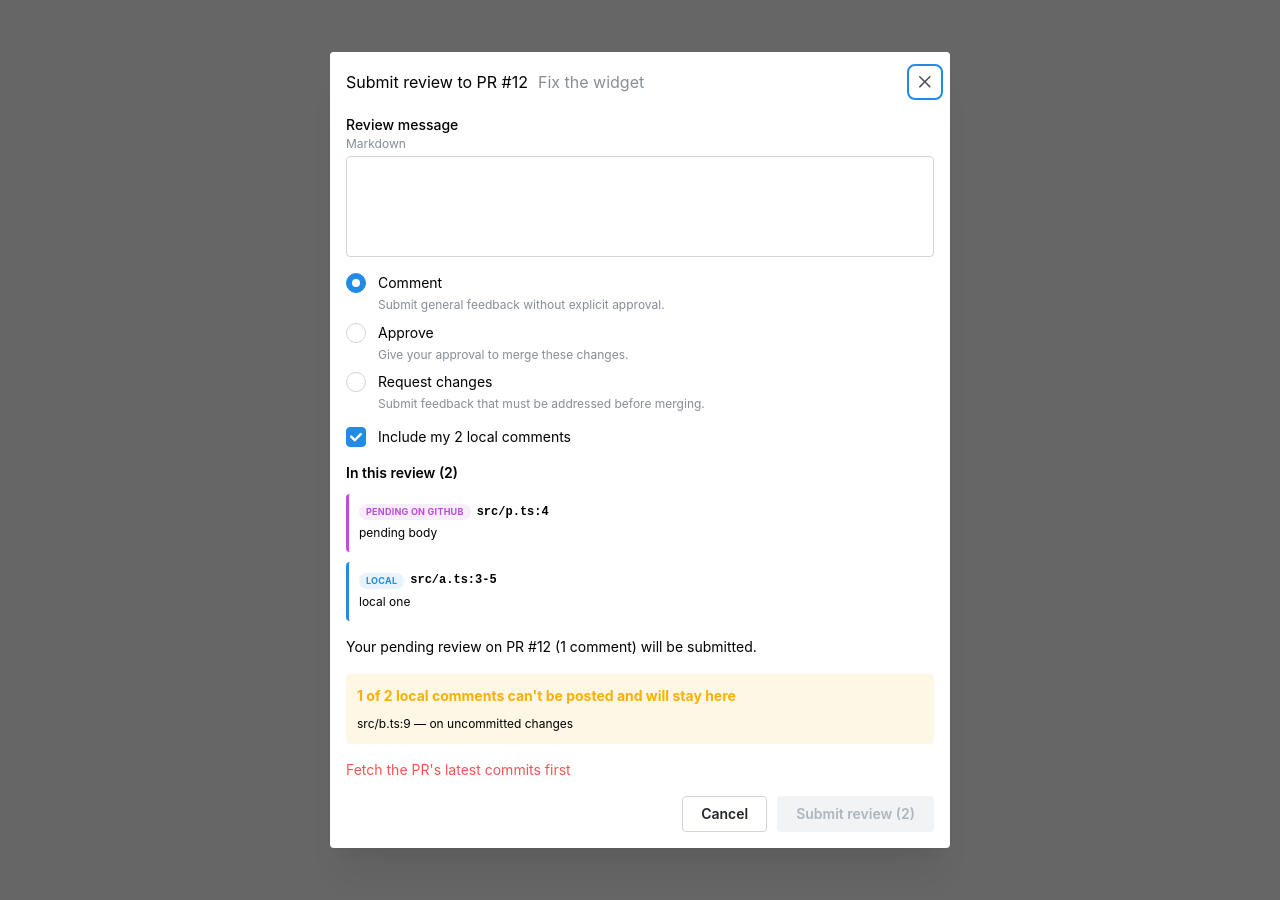
Test: SubmitReviewModal › disables Submit with the blocked reason while local comments are included
Expected: the button "Submit review (2)" is disabled, x1=777 y1=796 x2=934 y2=832
Expected: the text "Fetch the PR's latest commits first" is shown, x1=346 y1=761 x2=571 y2=778
Click the checkbox labelled "Include my 2 local comments" at coordinates (356, 437), box x1=346 y1=427 x2=366 y2=447
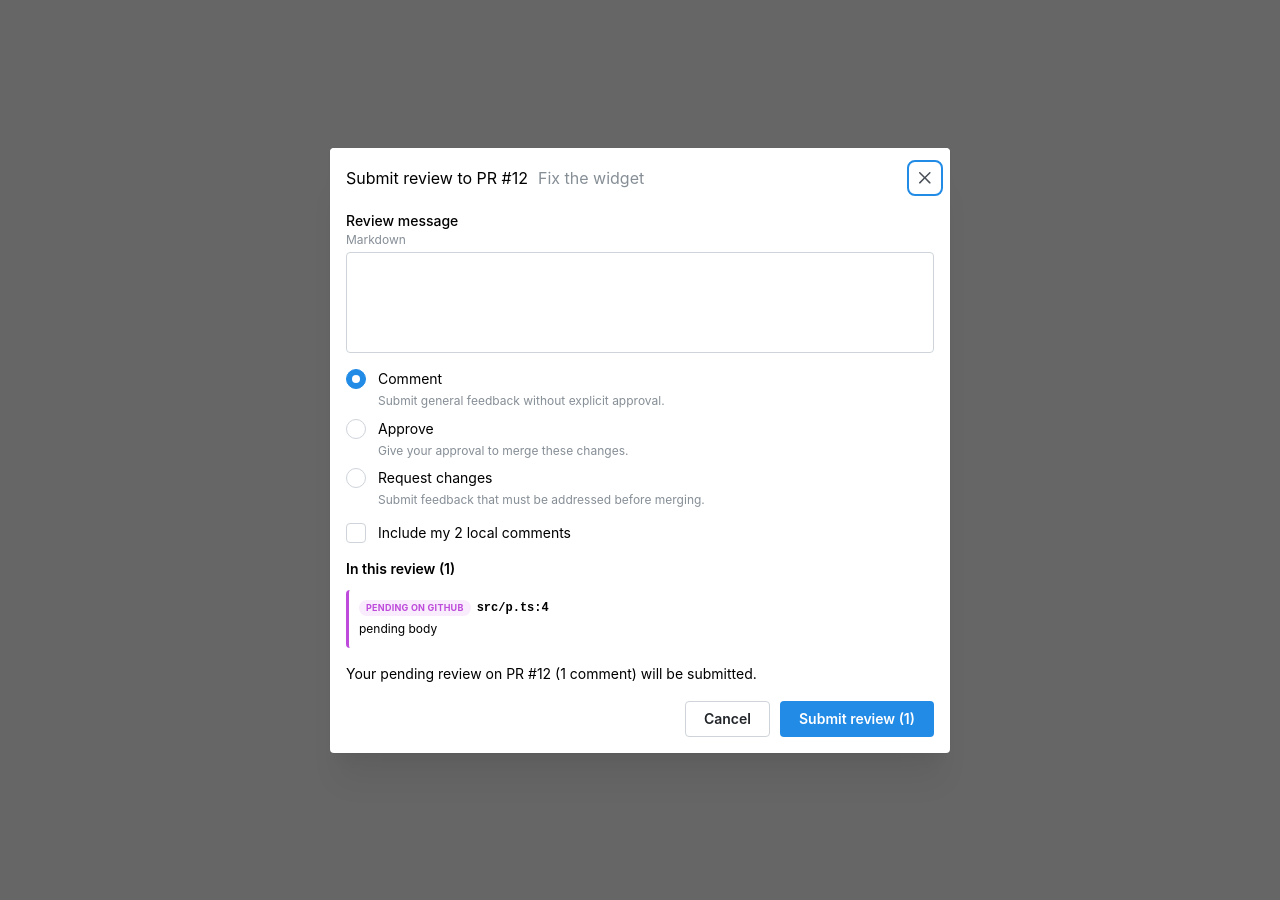
Result: the button "Submit review (1)" is enabled at x1=780 y1=700 x2=934 y2=736
